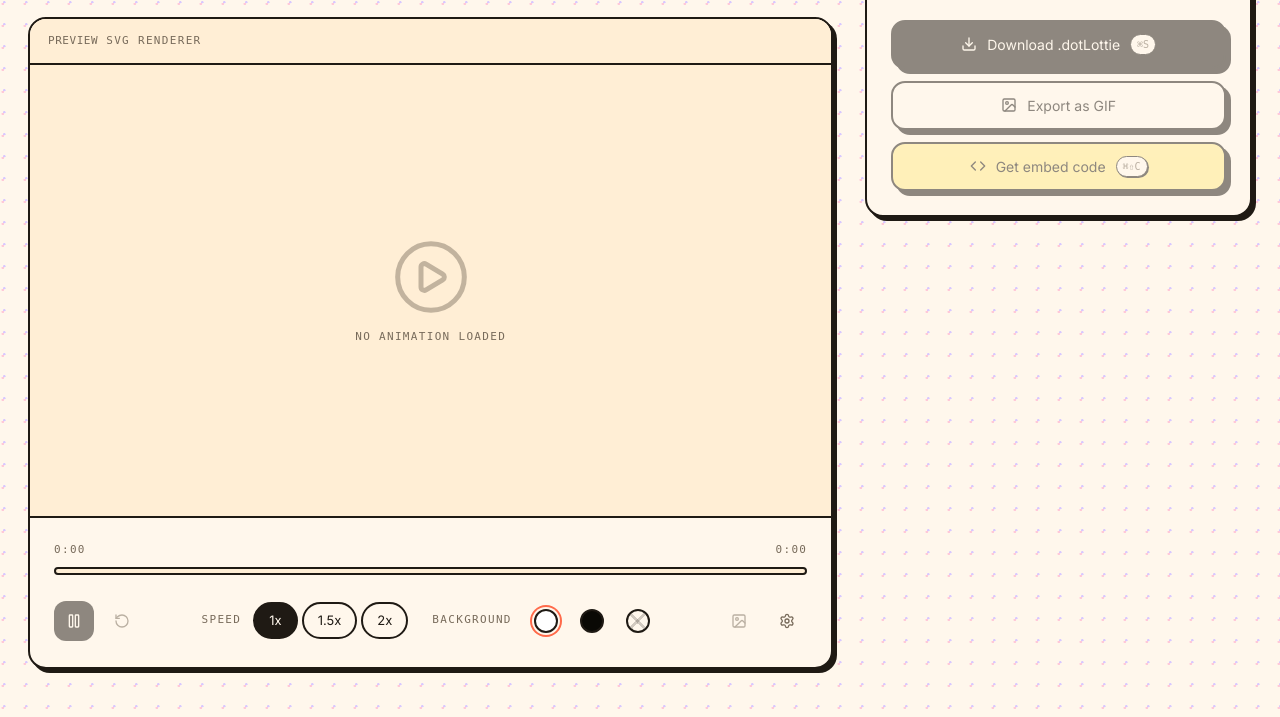
Test: LottiePreviewerRoute › opens settings dropdown on toggle click
The width and height of the screenshot is (1280, 717).
(page scrolled)
Click the button titled "Playback settings": (787,621) x1=767 y1=601 x2=807 y2=641
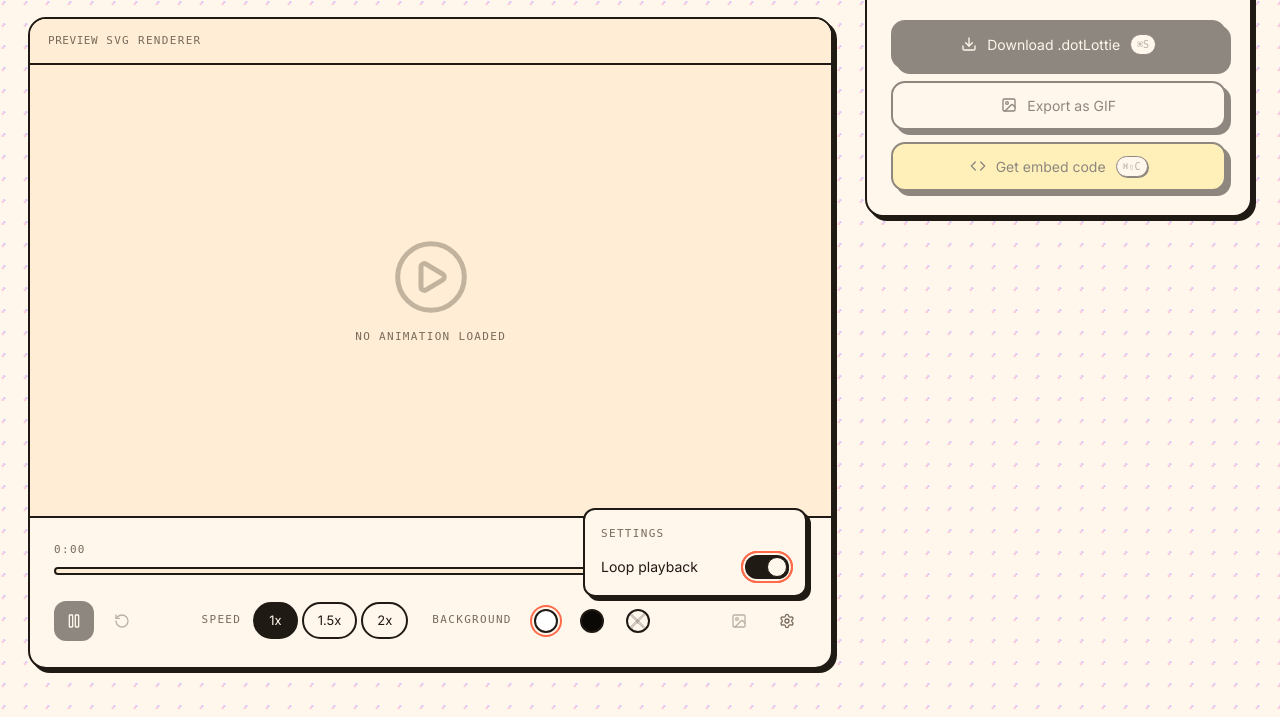
Expected: the text "Loop playback" is shown, x1=601 y1=556 x2=698 y2=576
